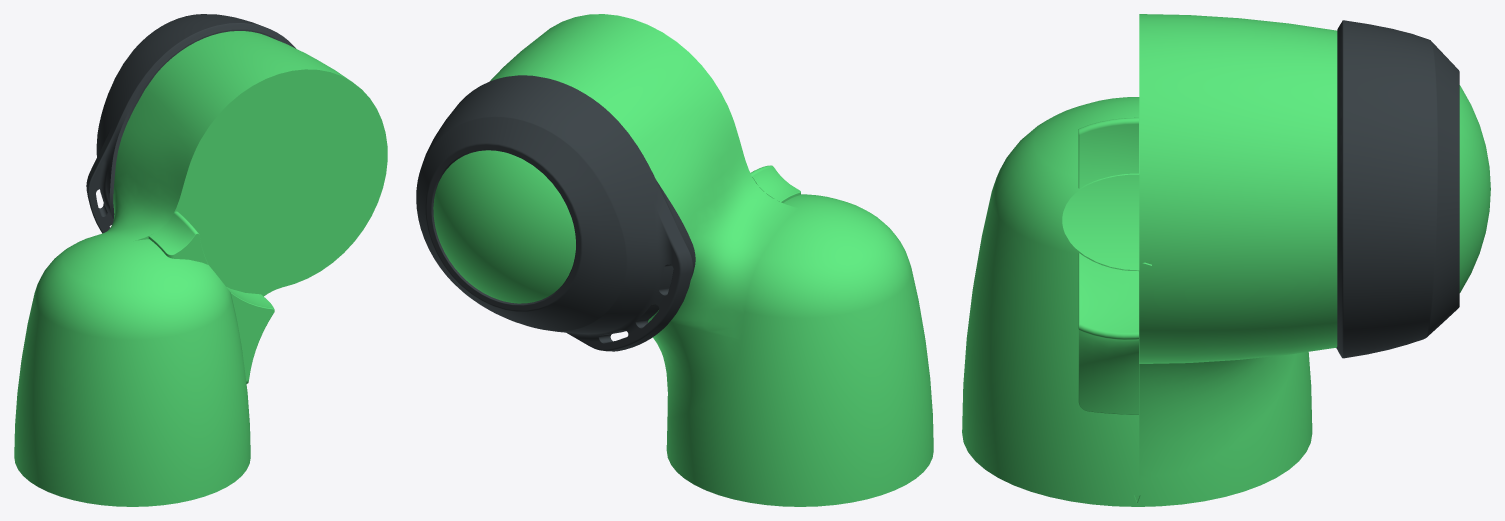
The picture shows the model from 3 angles, left to right: view 1: azimuth 30°, elevation 25°; view 2: azimuth 150°, elevation 25°; view 3: azimuth 270°, elevation 25°; orthographic projection. The views are drawn at different scales.
Parts seen in each view (by area): view 1: 03_FP3_ELBOW, 03_FP3_ELBOW_0; view 2: 03_FP3_ELBOW, 03_FP3_ELBOW_0; view 3: 03_FP3_ELBOW, 03_FP3_ELBOW_0.
Part boxes in pixels (x1,y1,x2,y2): 03_FP3_ELBOW: [14, 31, 387, 506]; 03_FP3_ELBOW_0: [86, 14, 295, 233]; 03_FP3_ELBOW: [433, 14, 933, 506]; 03_FP3_ELBOW_0: [416, 75, 695, 351]; 03_FP3_ELBOW: [962, 14, 1490, 506]; 03_FP3_ELBOW_0: [1336, 20, 1459, 358].
Bounding box in the file's own units: 0.1925 × 0.166 × 0.1778.
